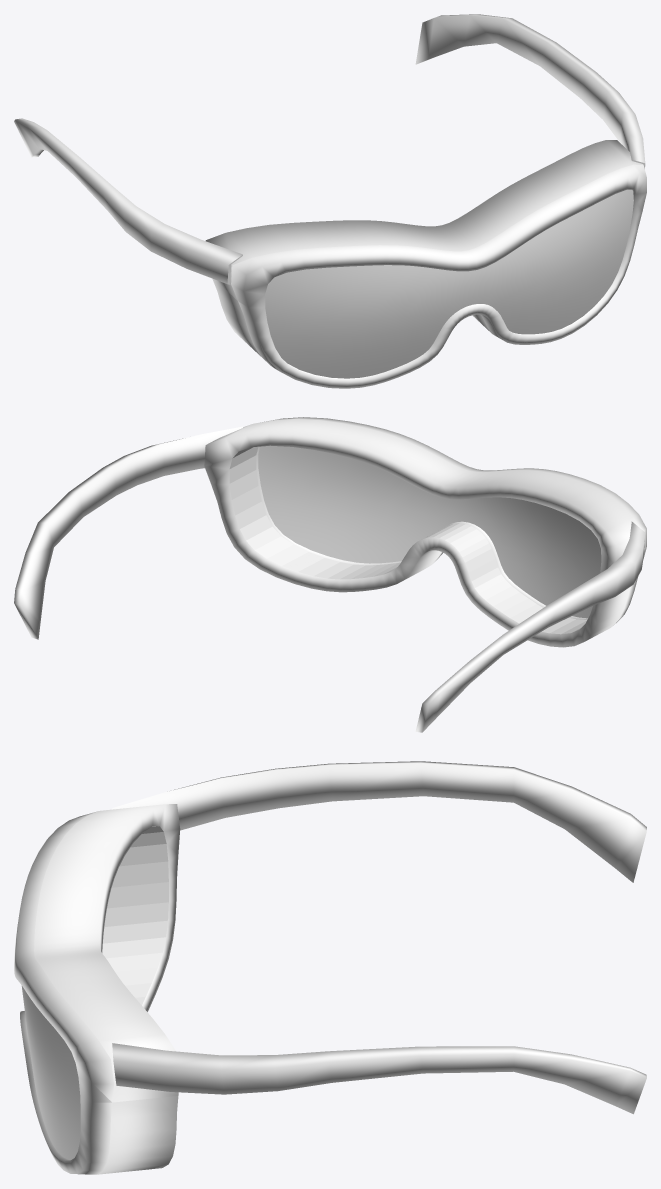
File: F_Goggle.fbx
3 renders of one model, top to bottom at view 1: azimuth 30°, elevation 25°; view 2: azimuth 150°, elevation 25°; view 3: azimuth 270°, elevation 25°, orthographic. The views are drawn at different scales.
Parts seen in each view (by area): view 1: âSü[âOâï_mesh; view 2: âSü[âOâï_mesh; view 3: âSü[âOâï_mesh.
Boxes of the visible parts, left/top/right/bottom form: âSü[âOâï_mesh: left=14, top=14, right=646, bottom=388; âSü[âOâï_mesh: left=14, top=417, right=646, bottom=732; âSü[âOâï_mesh: left=14, top=761, right=646, bottom=1174.
Size of the model in its own units: 188 by 168 by 56.62.
